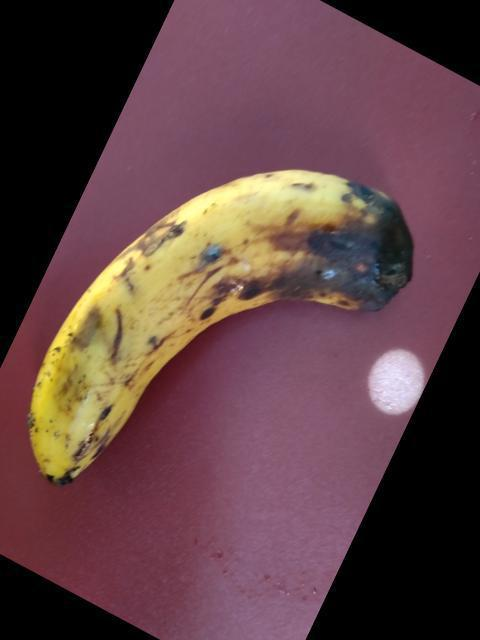rotten: (3, 140, 429, 506)
